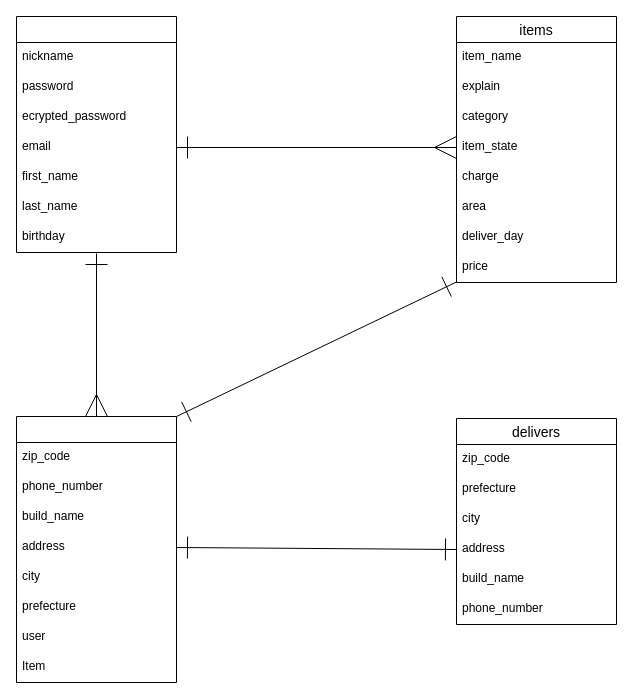
This 633x699 diagram has some shape labels left out. The box of each missing label's shape, as (x1, y1, x2, y2) in pixels:
orders: (16, 416, 176, 682)
users: (16, 16, 176, 252)
